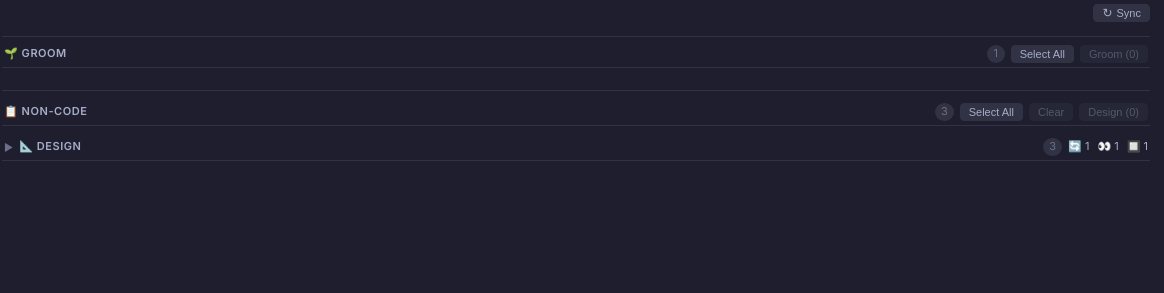
TaskList › non-code Type card shows correct not-Done count and status-emoji breakdown; expanding lists remaining tasks
Check: the text "Design In Progress" is not shown
Click the button with test id "type-card-header-design" at (50, 146), box [2,134,1150,161]
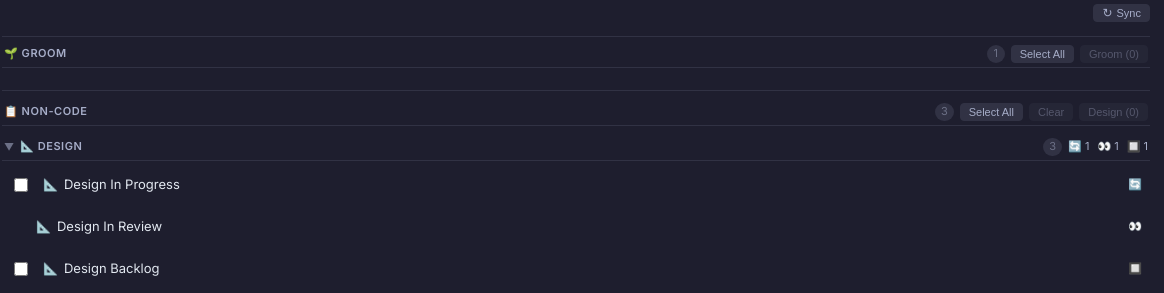
Check: the text "Design In Progress" is shown, box [64,176,180,192]
Check: the text "Design In Review" is shown, box [57,218,162,234]
Check: the text "Design Backlog" is shown, box [64,260,160,276]
